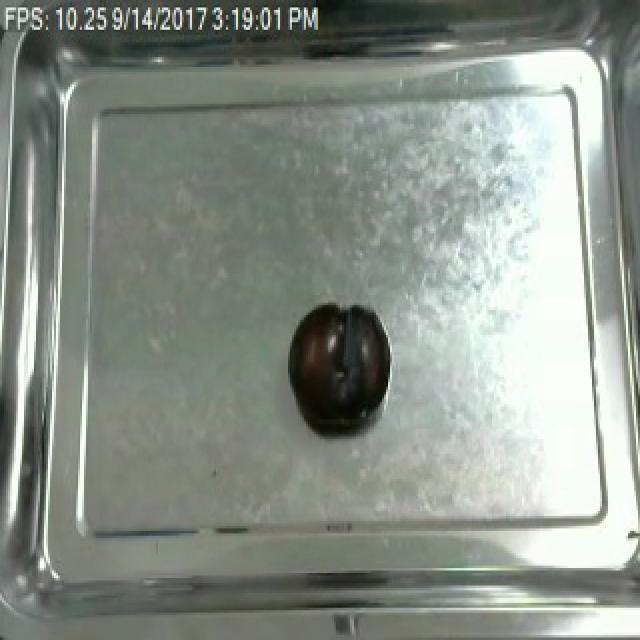Fruit: (284, 300, 386, 429)
